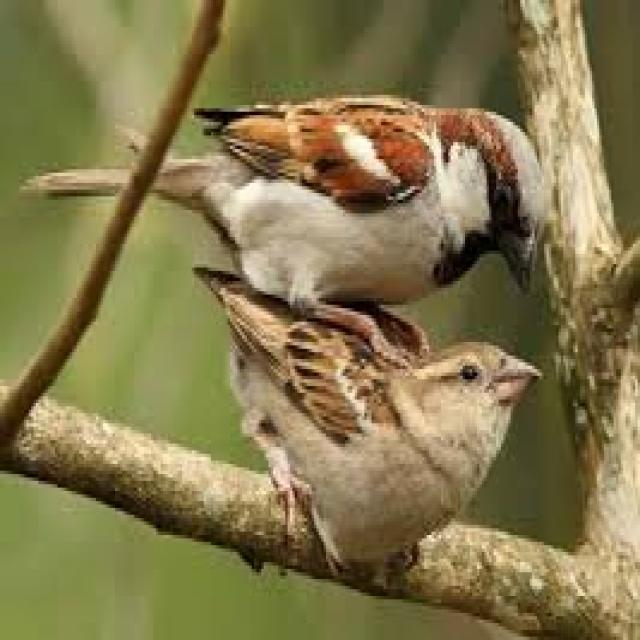Sparrow: (200, 262, 544, 586), (31, 80, 546, 292)
